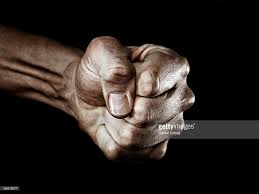fist: (84, 33, 193, 157)
